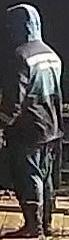vest: (0, 43, 62, 144)
